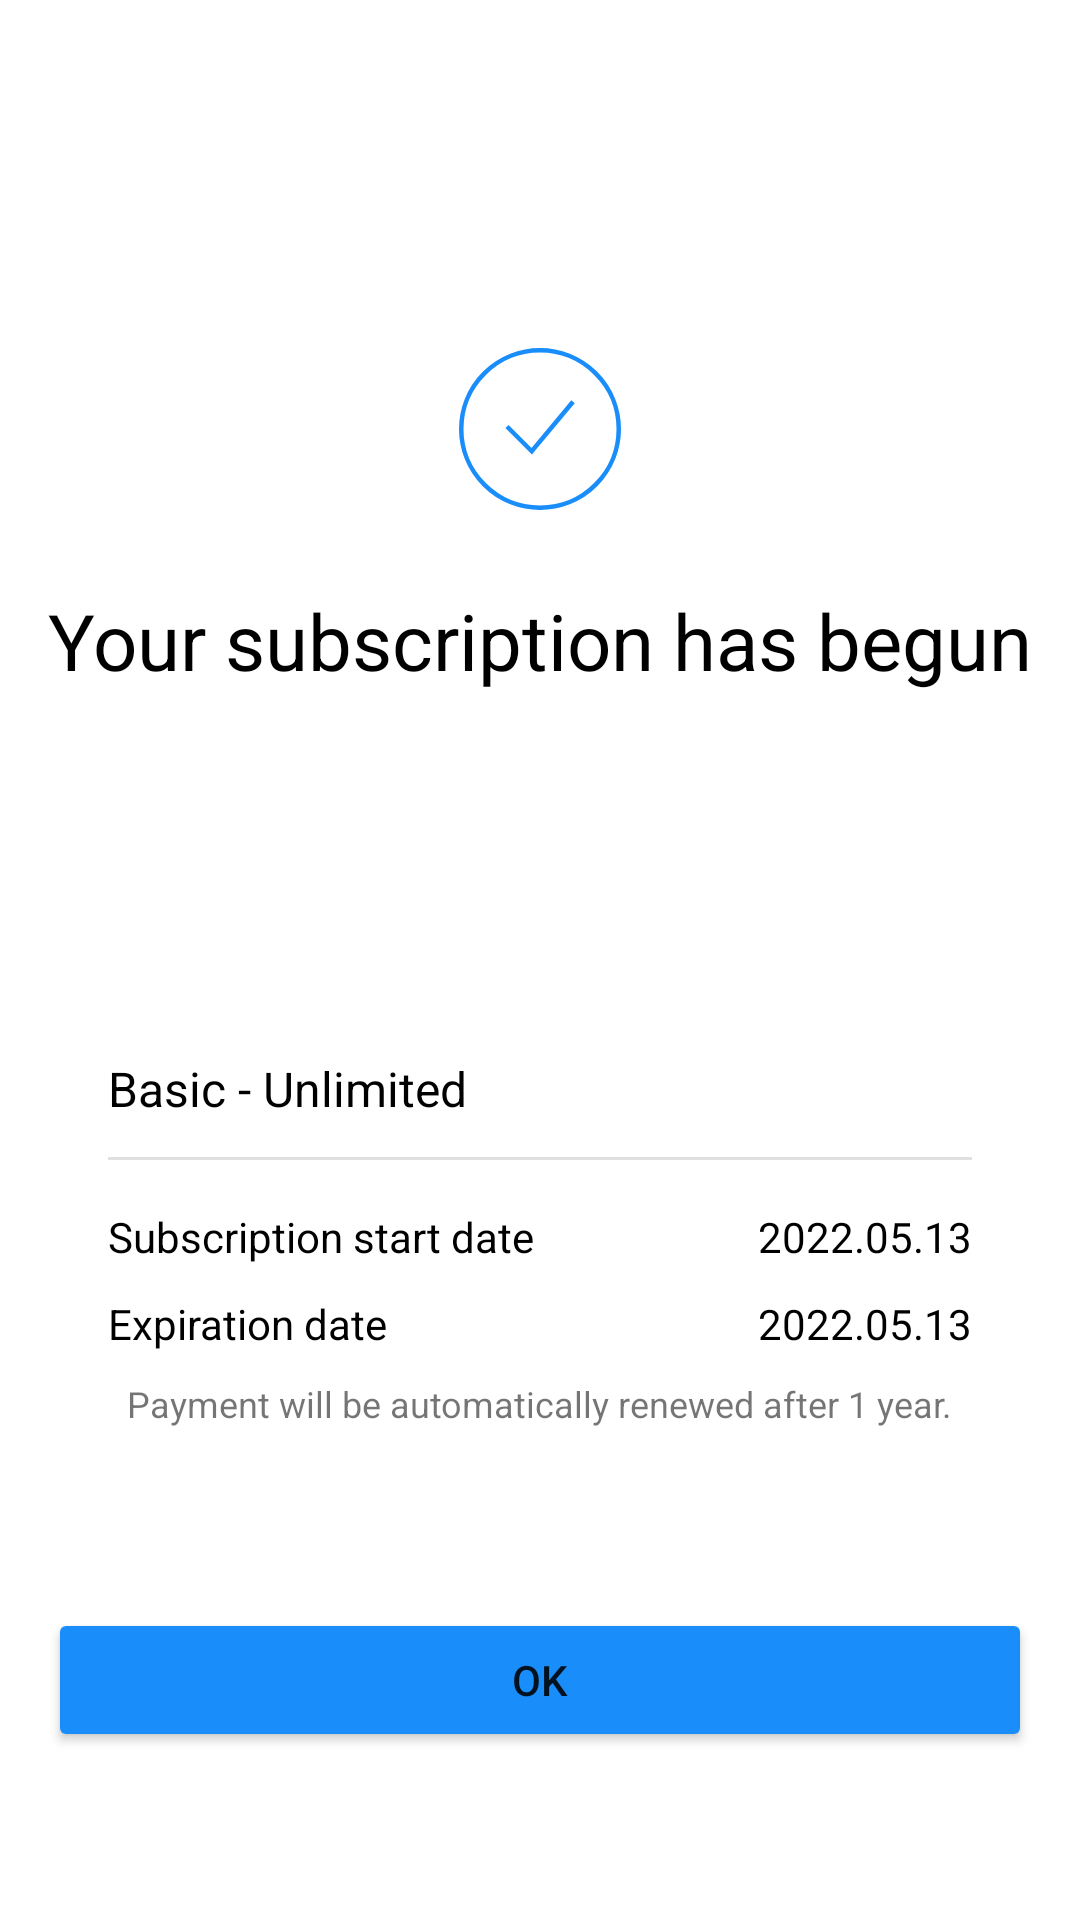

Icons on this 1080 × 1920 Android screen, each with its box as (x1, y1, x2, y2):
confirm: (459, 348, 621, 510)
